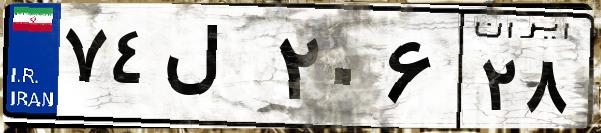0: (330, 28, 385, 110)
2: (270, 28, 330, 110), (475, 38, 525, 113)
4: (110, 28, 158, 98)
6: (385, 28, 445, 110)
7: (57, 26, 110, 100)
8: (525, 38, 570, 115)
ل: (158, 20, 270, 120)
